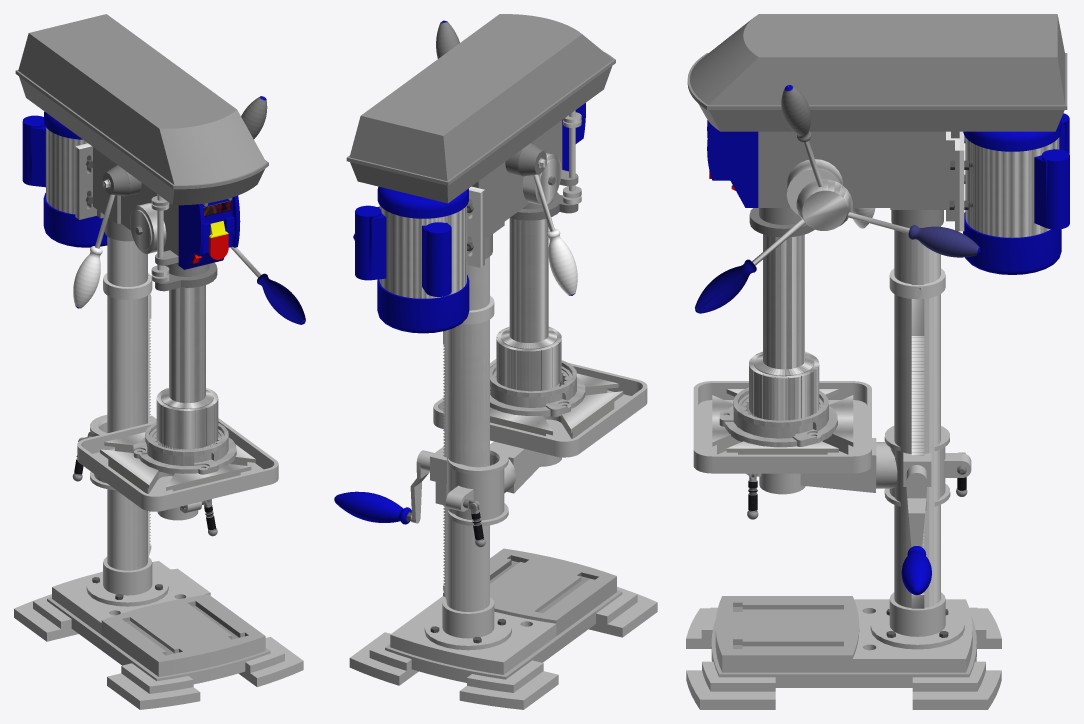
3 views of the same model, side by side, from view 1: azimuth 30°, elevation 25°; view 2: azimuth 150°, elevation 25°; view 3: azimuth 270°, elevation 25° (orthographic). The views are drawn at different scales.
Parts seen in each view (by area): view 1: 01, 04, 03, 1.001, 02.001; view 2: 01, 04, 03, 1.001, 02.001; view 3: 01, 04, 03, 02.001, 1.001.
Boxes of the visible parts, <box> form: 01: <box>14,14,303,709</box>; 04: <box>72,415,278,536</box>; 03: <box>156,285,218,450</box>; 1.001: <box>133,422,236,474</box>; 02.001: <box>230,96,305,324</box>; 01: <box>346,14,657,709</box>; 04: <box>334,359,647,547</box>; 03: <box>496,218,561,391</box>; 1.001: <box>490,360,585,416</box>; 02.001: <box>353,20,459,240</box>; 01: <box>686,14,1069,709</box>; 04: <box>693,381,971,595</box>; 03: <box>749,234,819,420</box>; 02.001: <box>695,85,980,313</box>; 1.001: <box>719,387,837,447</box>.
Size of the model in its own units: 141 by 356 by 197.
Materials: 37 (10 with a texture image).
